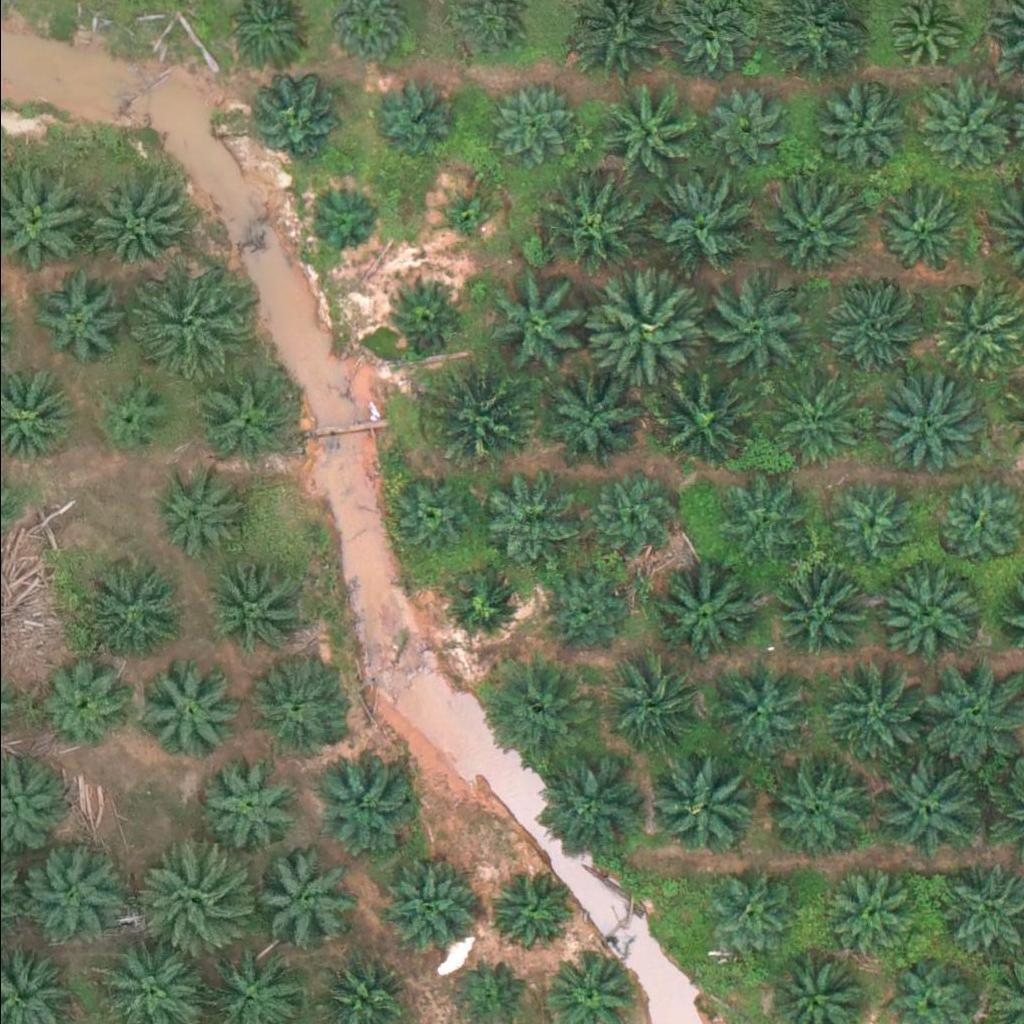Kelapa_Sawit: (753, 174, 867, 287), (763, 750, 877, 863), (128, 266, 242, 379), (588, 280, 701, 393), (653, 554, 766, 667), (473, 653, 586, 766), (869, 754, 982, 867), (652, 742, 765, 855), (693, 279, 807, 391), (644, 173, 757, 285), (542, 172, 655, 284), (479, 275, 592, 387), (873, 368, 986, 480), (648, 368, 761, 480), (427, 366, 540, 478), (870, 556, 983, 668), (813, 659, 926, 771), (592, 647, 705, 759), (529, 746, 642, 858), (18, 837, 131, 949), (138, 844, 251, 956), (910, 75, 1011, 175), (597, 84, 698, 184), (771, 375, 872, 475), (537, 368, 638, 468), (193, 371, 294, 471), (470, 466, 571, 566), (770, 559, 871, 659), (254, 851, 355, 951), (315, 749, 416, 849), (250, 657, 351, 757), (201, 557, 302, 657), (140, 662, 241, 762), (80, 558, 181, 658), (821, 284, 921, 384), (713, 658, 813, 758), (369, 854, 469, 954), (200, 753, 300, 853), (85, 179, 185, 279), (823, 82, 911, 170), (702, 90, 790, 178), (482, 82, 570, 170), (243, 79, 331, 167), (438, 562, 526, 650), (830, 474, 918, 562), (827, 868, 915, 956), (707, 871, 795, 959), (151, 472, 239, 560), (376, 77, 464, 164), (870, 191, 958, 278), (712, 477, 800, 564), (587, 473, 675, 560), (383, 475, 471, 562), (542, 568, 630, 655), (484, 867, 572, 954), (41, 662, 129, 749), (30, 276, 118, 363), (387, 277, 463, 352), (93, 380, 169, 455), (305, 183, 380, 258), (428, 184, 491, 247)
